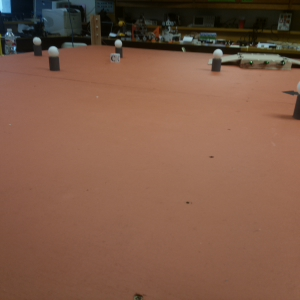obstacle: (48, 45, 61, 71), (212, 49, 223, 73), (114, 39, 123, 59), (33, 37, 41, 54)
side: (243, 59, 289, 68)
slope: (209, 53, 242, 67)
